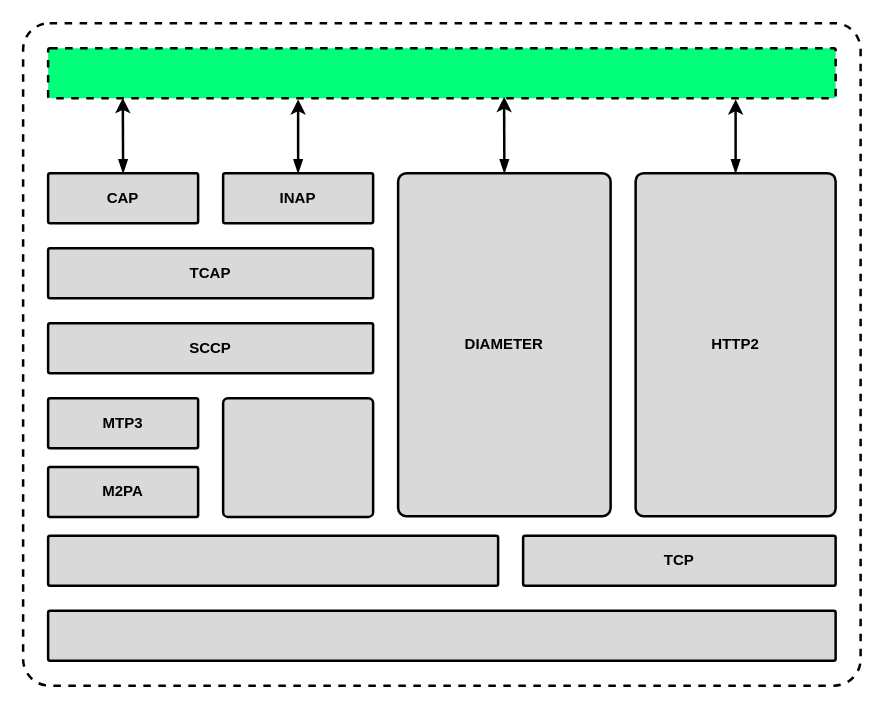
The diagram is 883 pixels wide and 708 high, and some of its shapes have lost their labels. Here are the shapes that lost their labels. From the top down, the centre of each, then its label:
(x=441, y=72): CHF-IWF Conversion & Mediation Engine
(x=297, y=457): M3UA
(x=272, y=560): SCTP
(x=441, y=635): Ethernet
